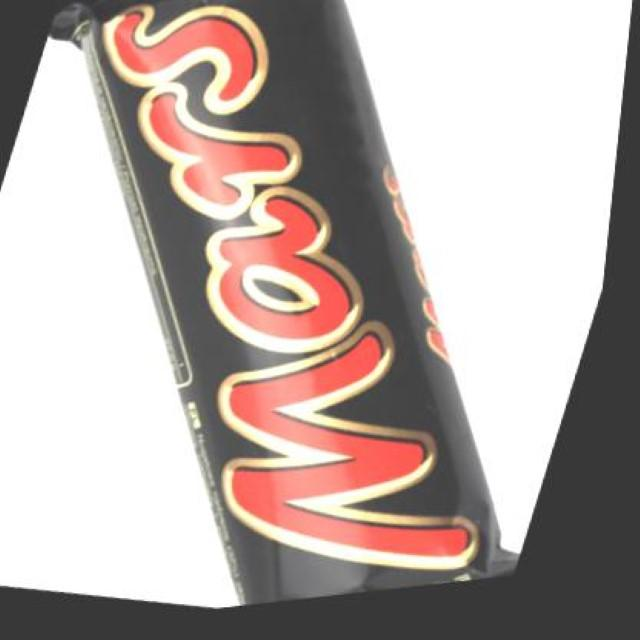mars_chocolate: (90, 15, 508, 623)
